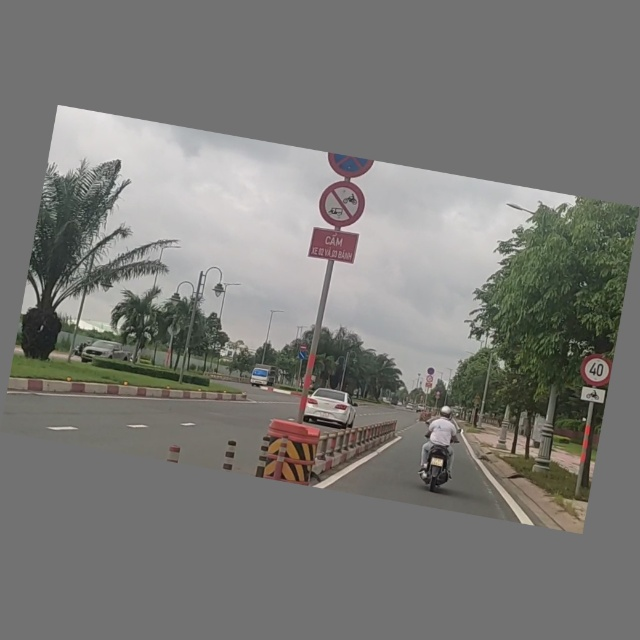P.111: (311, 176, 368, 230)
P.127*40: (579, 353, 614, 390)
S.505a*Xe may: (579, 385, 607, 404)
